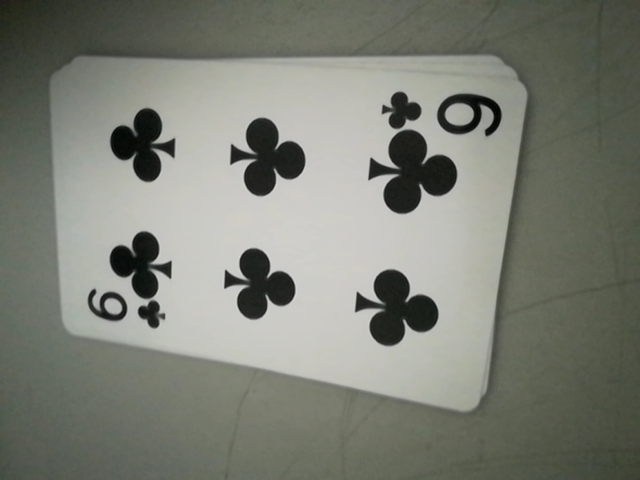mh 6: (380, 87, 506, 139), (80, 288, 171, 335)
